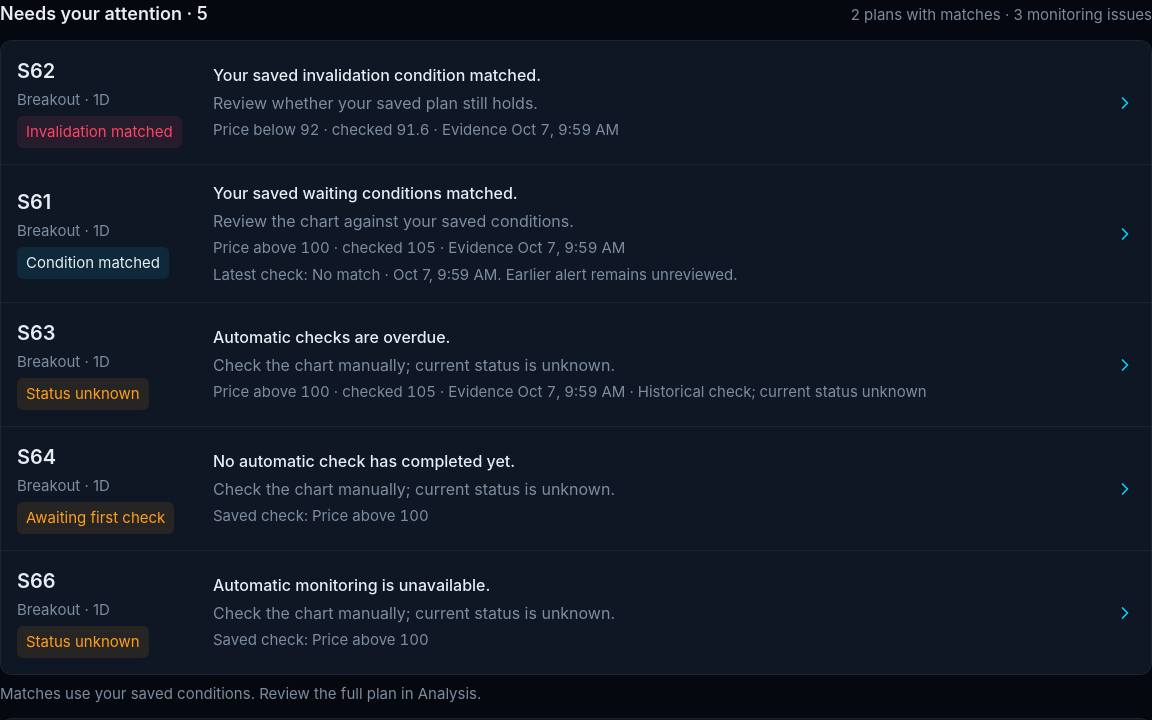
Test: Today setup plans › prioritizes invalidation evidence, explains monitoring gaps, and opens the exact saved plan
Expected: the heading "Needs your attention · 5" is shown, [0, 0, 208, 28]
Expected: the button with aria-label "Open S61 Breakout plan 61" shows "Latest check: No match", [1, 164, 1151, 302]
What coordinates should you click on to do the following:
click the button with aria-label "Open S62 Breakout plan 62"
I would click on:
 (36, 71)
Its box is [1, 41, 1151, 164].
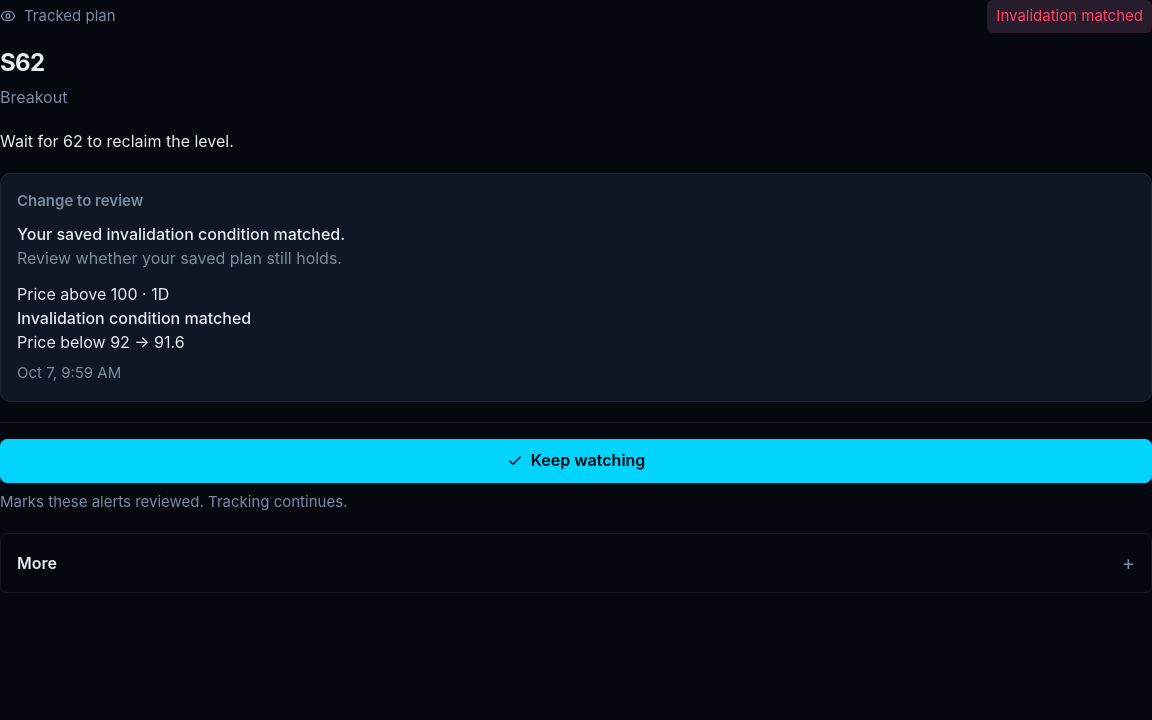
Expected: the text "Review whether your saved plan still holds." is shown, [17, 248, 342, 268]
Expected: the button "Keep watching" is shown, [0, 438, 1151, 482]
